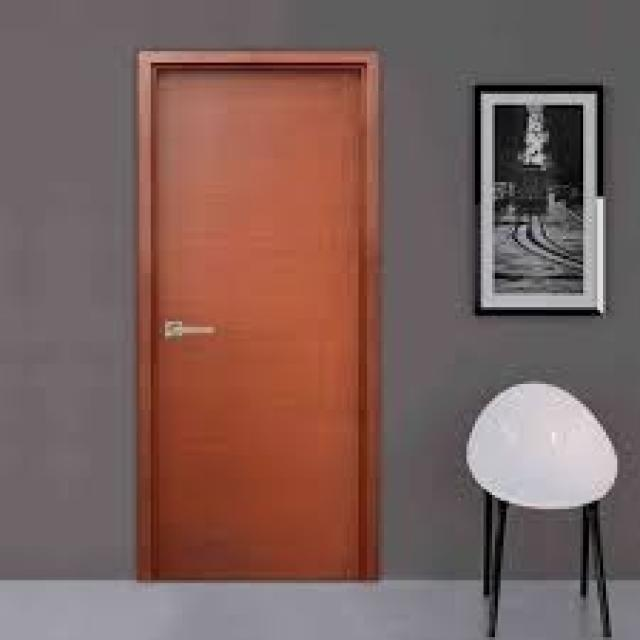door: (135, 49, 380, 582)
